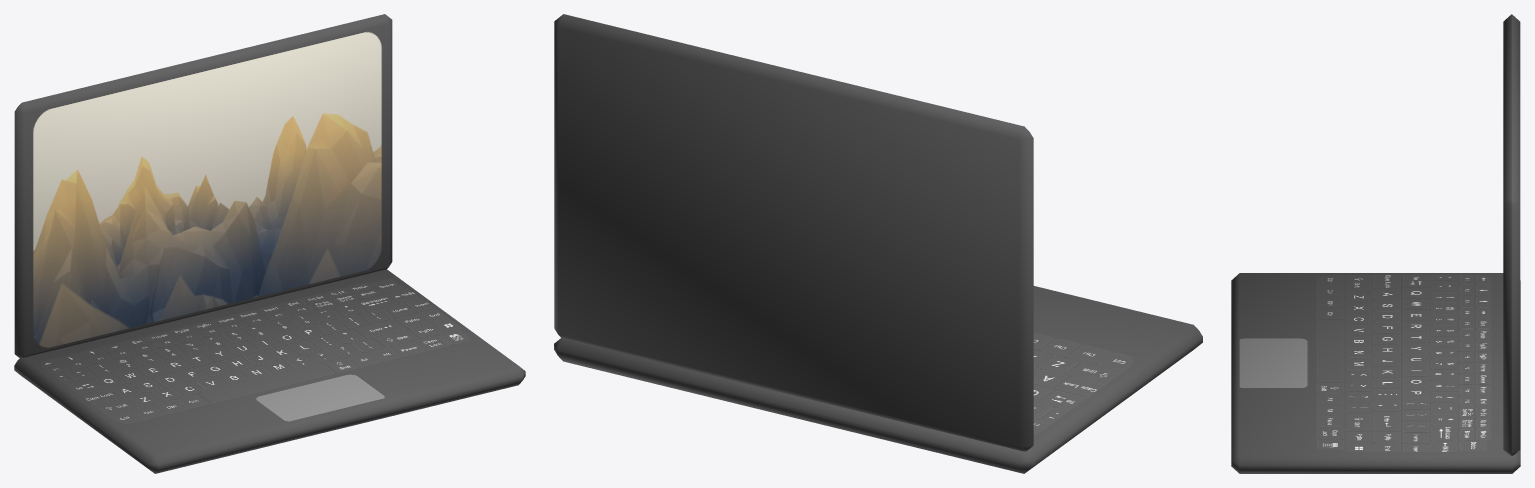
Rendered from noutbyke.fbx.
3 renders of one model, left to right at view 1: azimuth 30°, elevation 25°; view 2: azimuth 150°, elevation 25°; view 3: azimuth 270°, elevation 25°, orthographic. The views are drawn at different scales.
Parts seen in each view (by area): view 1: Plane.009; view 2: Plane.009; view 3: Plane.009.
Boxes of the visible parts, x1,y1,x2,y2 form: Plane.009: (14, 14, 525, 473); Plane.009: (554, 14, 1202, 473); Plane.009: (1231, 14, 1520, 473).
Bounding box in the file's own units: 134 × 93.09 × 87.49.
Materials: 4 (2 with a texture image).
